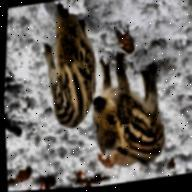boar: (83, 43, 186, 171), (30, 3, 105, 138)
